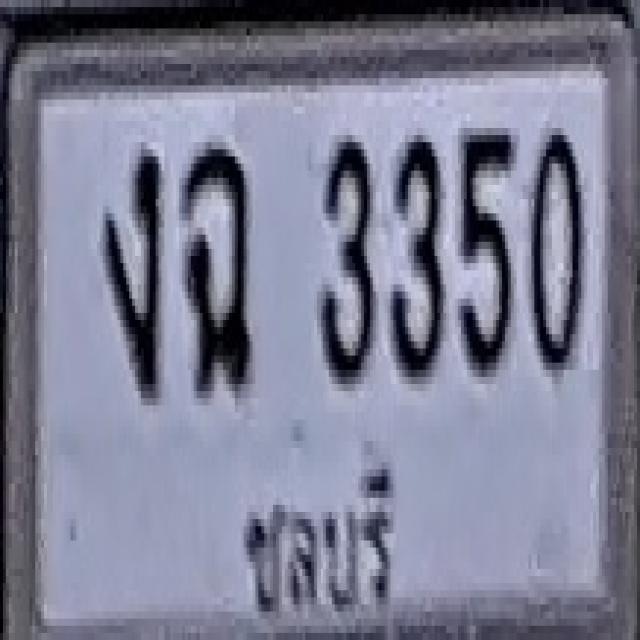0: (530, 124, 583, 373)
3: (318, 135, 374, 384), (391, 128, 444, 377)
5: (458, 124, 514, 373)
A07: (103, 150, 161, 398)
A09: (182, 142, 252, 391)
CBI: (237, 455, 396, 628)
